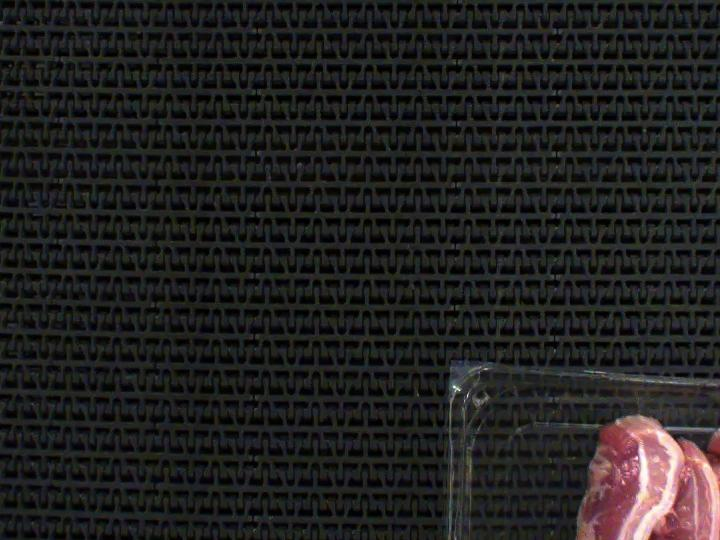packaging-error: (629, 387, 654, 421)
